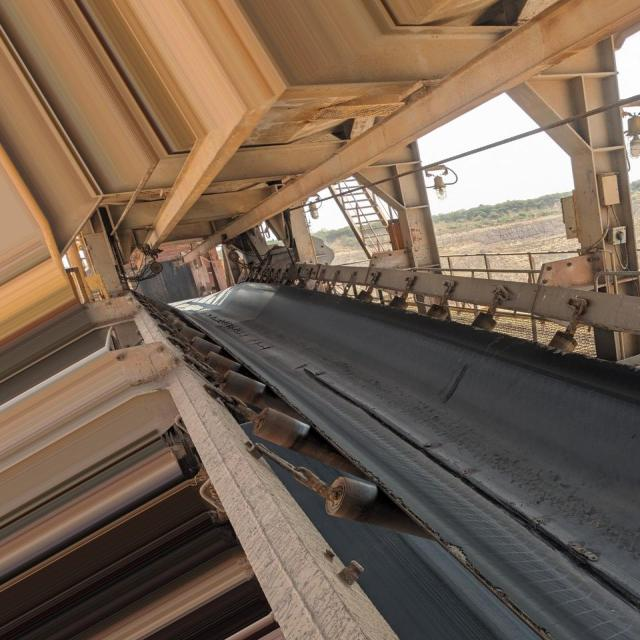Roller: (354, 290, 577, 351), (252, 406, 370, 478), (325, 476, 438, 541), (161, 306, 252, 376), (218, 370, 312, 423)
Tear: (299, 363, 640, 612)
